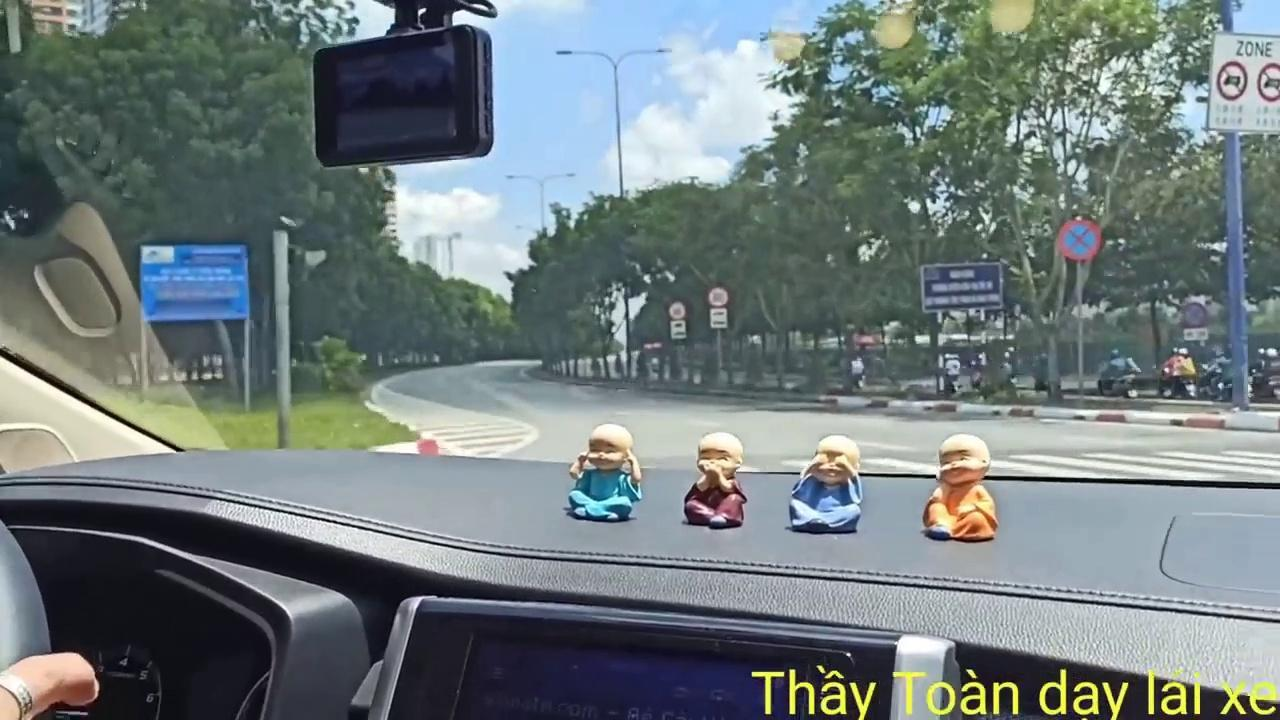Biển phụ: (708, 307, 728, 329), (669, 321, 689, 339)
Cấm cac phương tiện hoạt động trong khung giờ cố định: (1199, 25, 1278, 136)
Cấm dừng - Cấm đỗ: (1054, 214, 1102, 263)
Khác: (137, 242, 250, 324)
